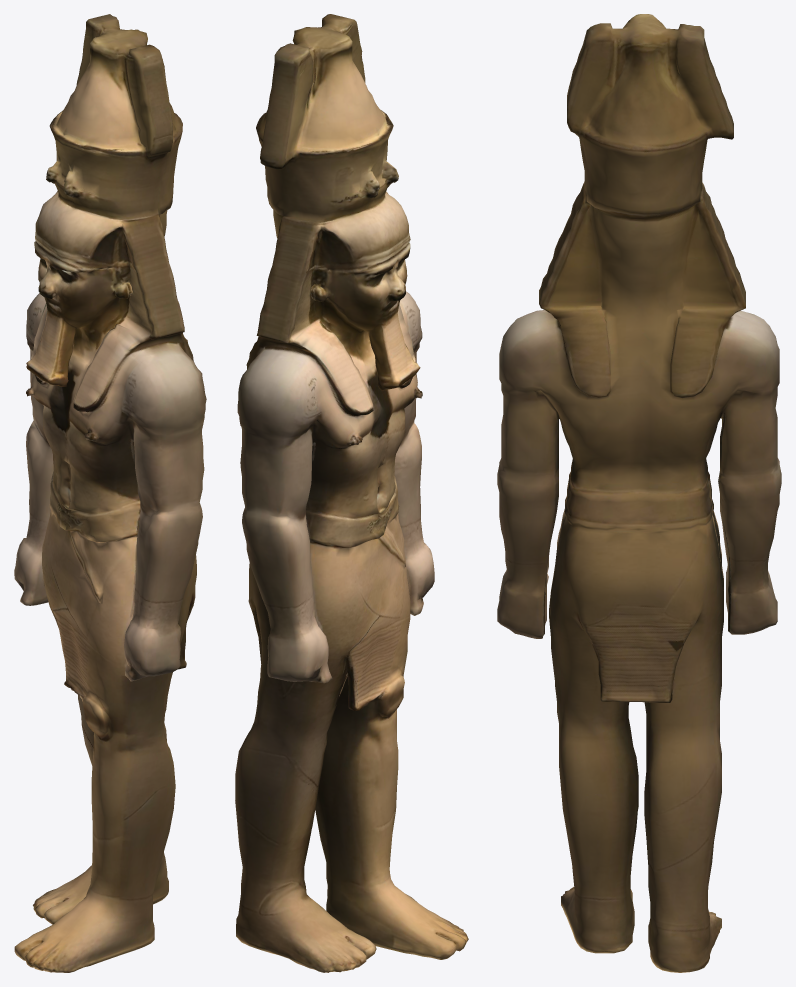
The model's file is Ramses.final.glb.
3 renders of one model, left to right at view 1: azimuth 30°, elevation 25°; view 2: azimuth 150°, elevation 25°; view 3: azimuth 270°, elevation 25°, orthographic. The views are drawn at different scales.
Parts seen in each view (by area): view 1: node_0; view 2: node_0; view 3: node_0.
Part boxes in pixels (x1,y1,x2,y2): node_0: (14, 14, 206, 972); node_0: (235, 14, 468, 972); node_0: (497, 14, 781, 972).
Size of the model in its own units: 0.2086 by 0.9961 by 0.2787.
Materials: 1 (1 with a texture image).
